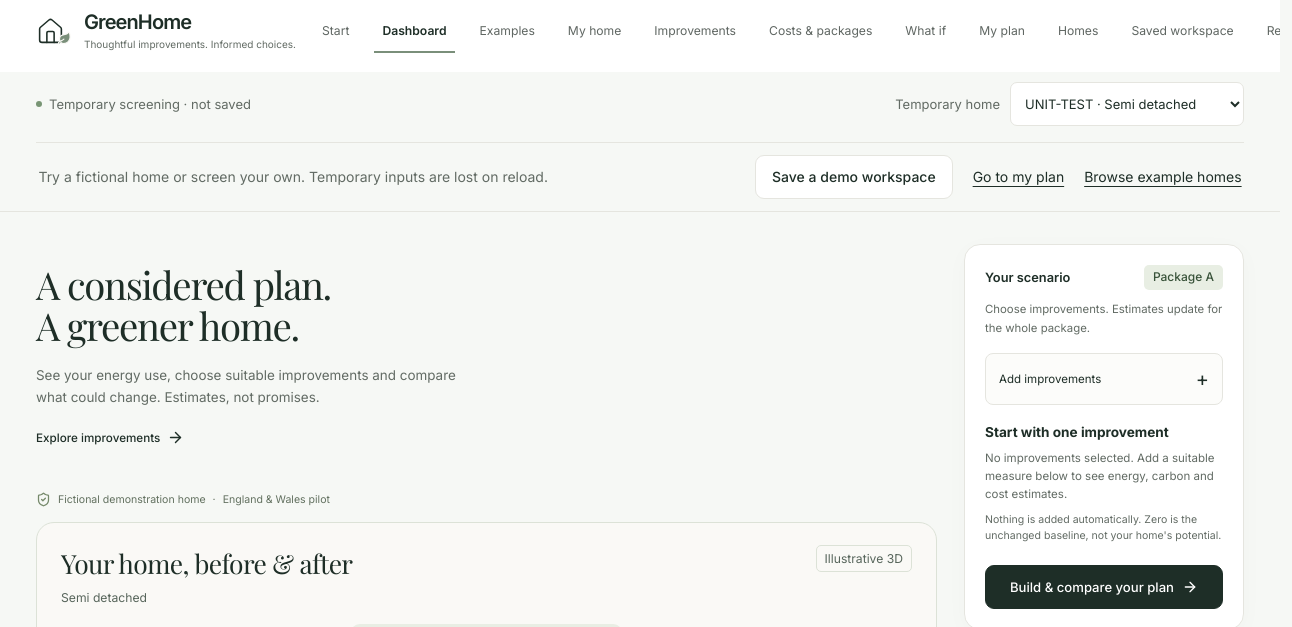
Test: lead composition integration — no App/CSS edits › renders the home form with no duplicate-key warnings
Check: the heading "A considered plan.A greener home." is shown, box [36,258,331,352]
Click the link "My home": (595, 30) [568,22,621,38]
(page scrolled)
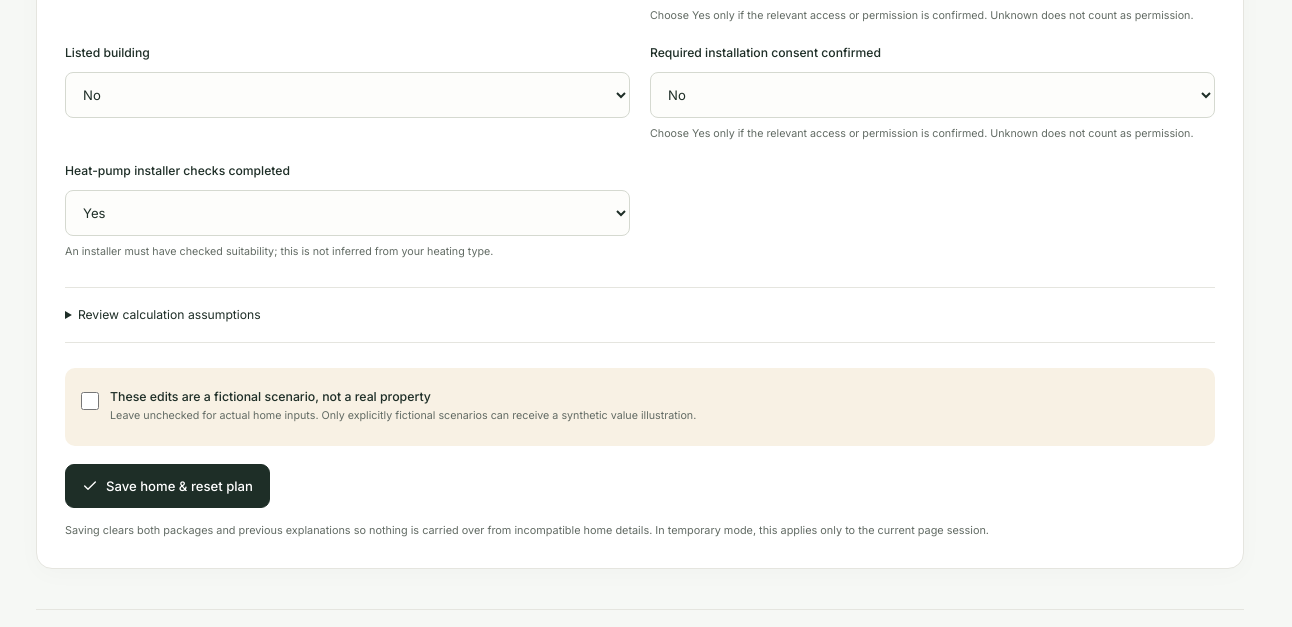
Check: the button "Save home & reset plan" is shown, box [65,464,270,508]
